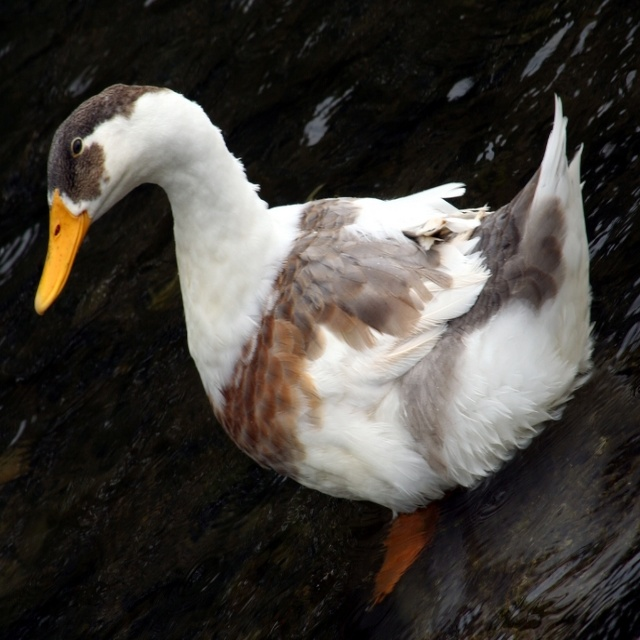Duck: (29, 82, 600, 602)
